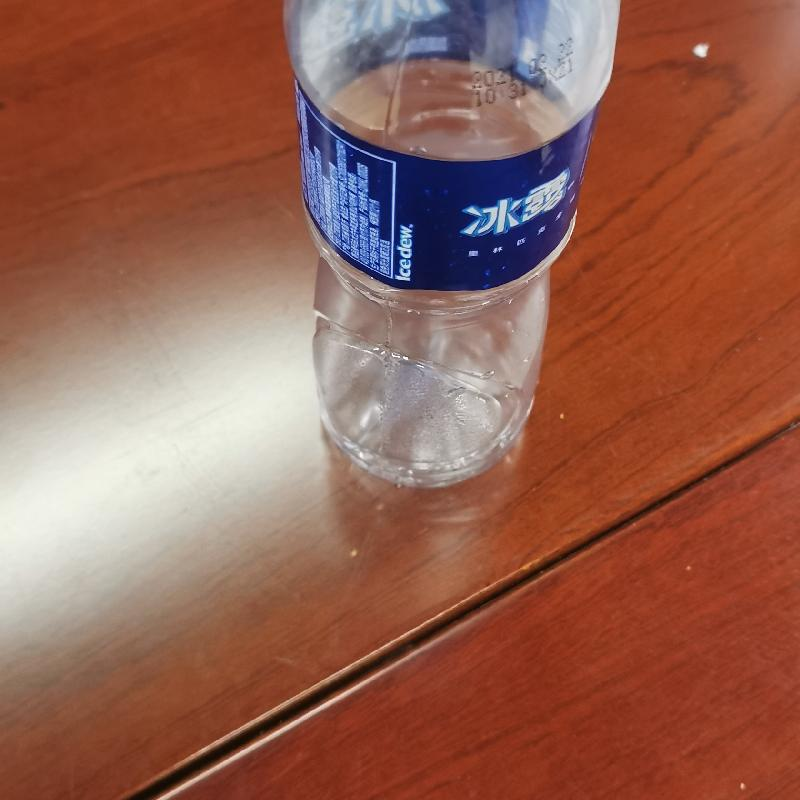bottles: (274, 1, 624, 493)
